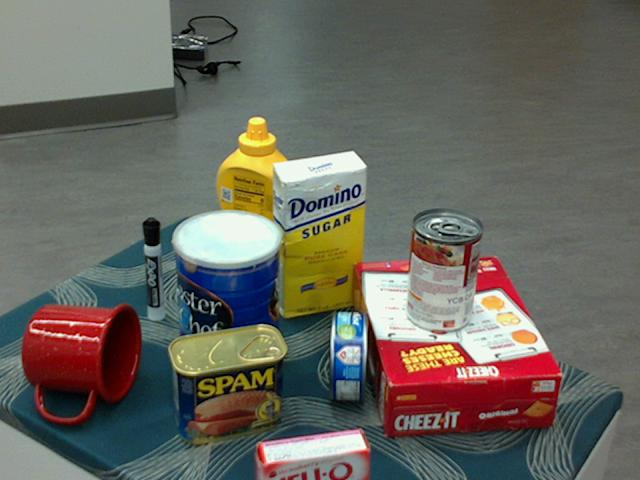cracker_box: (349, 258, 562, 433)
gelatin_box: (253, 429, 367, 479)
large_marker: (142, 216, 162, 320)
master_chef_can: (173, 210, 282, 384)
mug: (21, 303, 141, 422)
mustard_bottle: (215, 117, 297, 286)
potted_meat_can: (167, 324, 286, 443)
sugar_box: (272, 152, 367, 319)
tomato_soup_can: (404, 210, 482, 334)
tuna_fish_can: (330, 311, 367, 401)
